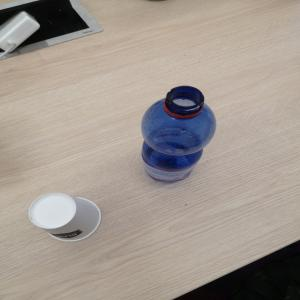Cup: (29, 193, 103, 243)
Plastic-bottle: (142, 86, 218, 184)
